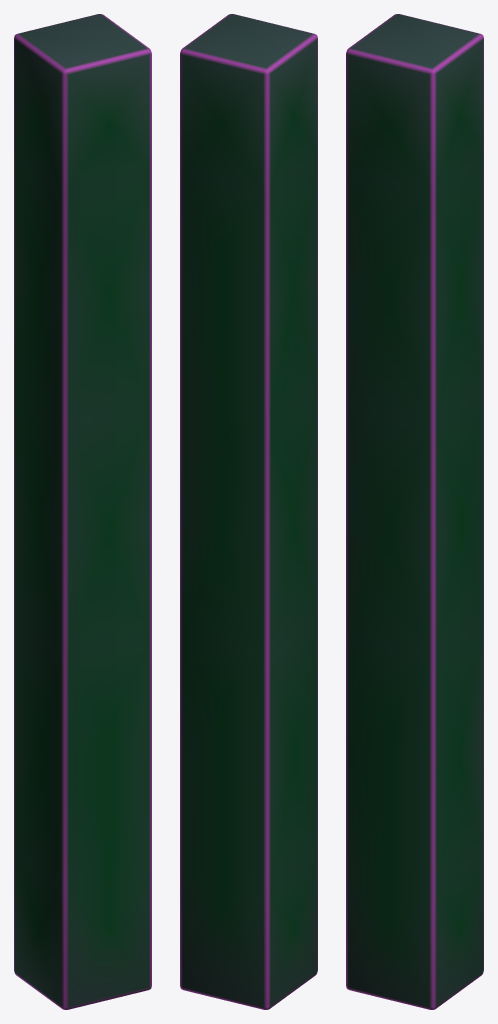
Rendered from standing_pillar_upper_01.fbx.
The picture shows the model from 3 angles, left to right: view 1: azimuth 30°, elevation 25°; view 2: azimuth 150°, elevation 25°; view 3: azimuth 330°, elevation 25°; orthographic projection.
Visible parts, largest first — view 1: standing_pillar_upper_01; view 2: standing_pillar_upper_01; view 3: standing_pillar_upper_01.
Boxes of the visible parts, x1,y1,x2,y2 form: standing_pillar_upper_01: (14,14,151,1009); standing_pillar_upper_01: (180,14,317,1009); standing_pillar_upper_01: (346,14,483,1009).
Bounding box in the file's own units: 0.1 × 1 × 0.1.
